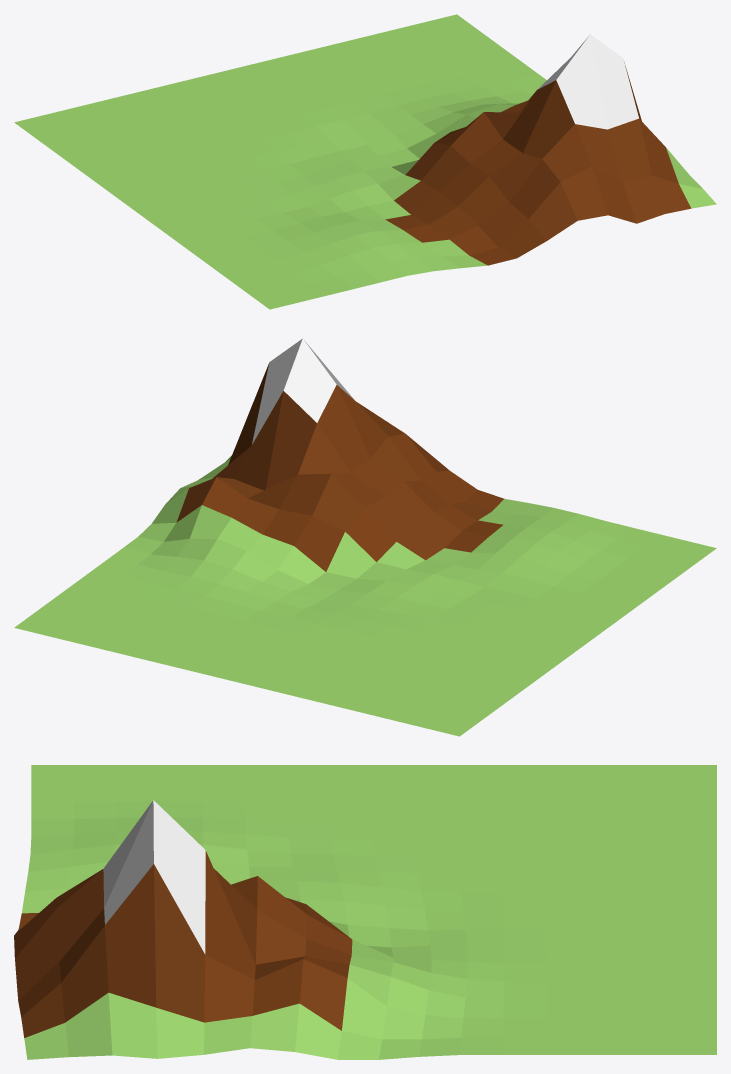
3 views of the same model, one above another, from view 1: azimuth 30°, elevation 25°; view 2: azimuth 150°, elevation 25°; view 3: azimuth 270°, elevation 25° (orthographic). The views are drawn at different scales.
Visible parts, largest first — view 1: 平面; view 2: 平面; view 3: 平面.
Boxes of the visible parts, x1,y1,x2,y2 form: 平面: (14,14,716,309); 平面: (14,338,716,736); 平面: (14,765,716,1059).
Size of the model in its own units: 409 by 411 by 138.
